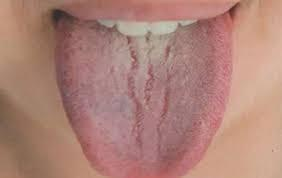baitaishe: (55, 37, 233, 178)
liewenshe: (125, 38, 155, 109)
